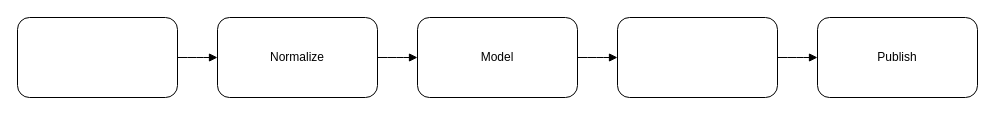
The diagram is 995 pixels wide and 115 high, and some of its shapes have lost their labels. Each missing label, with the box of its shape:
Intake: (16, 16, 178, 98)
Review: (616, 16, 778, 98)
